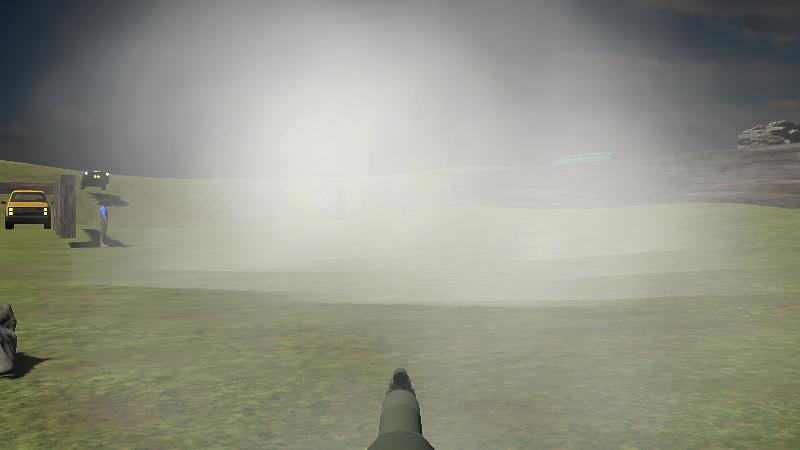Human: (97, 198, 110, 248)
car: (2, 184, 54, 233), (3, 184, 54, 233)
